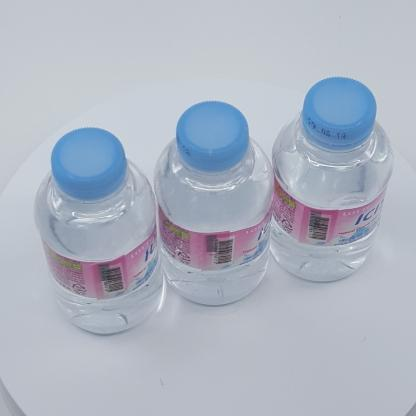------200ML: (34, 127, 163, 334), (267, 76, 394, 282), (153, 100, 274, 306)
